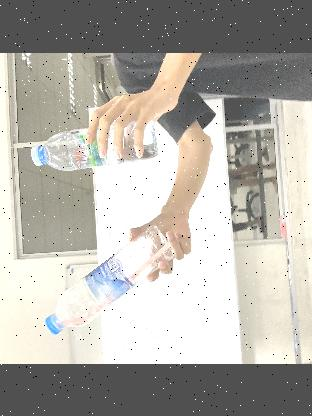Plastic Bottle: (44, 225, 174, 333), (30, 119, 158, 170)
